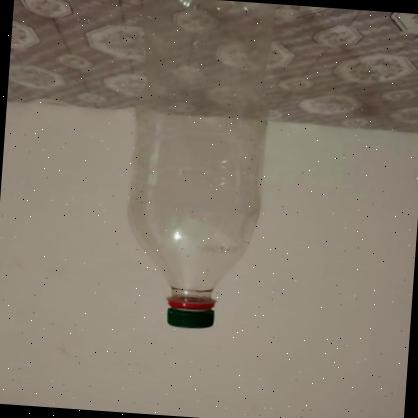bottle: (117, 0, 279, 334)
cap: (166, 300, 216, 330)
